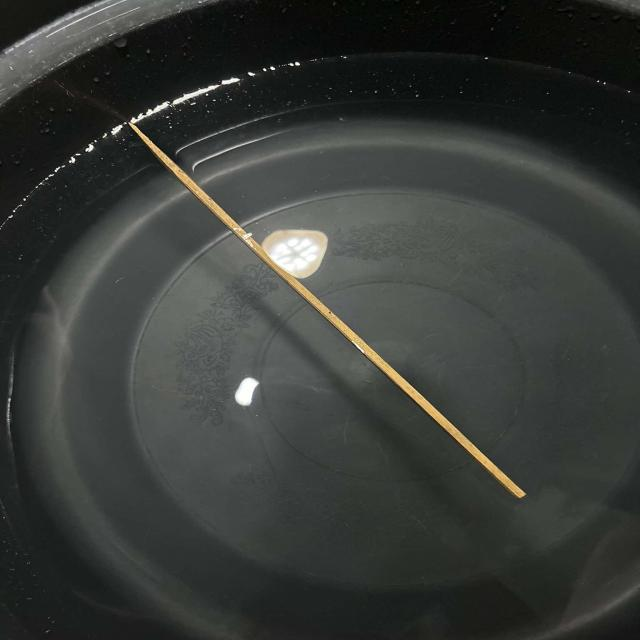Wood Stick: (107, 113, 538, 507)
